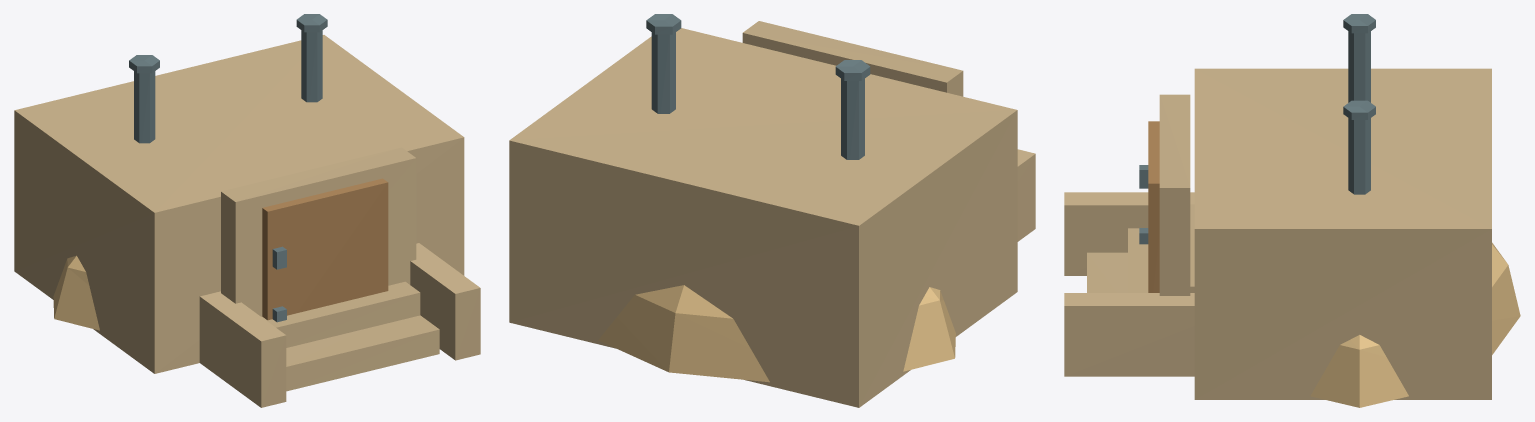
Rendered from Root-Cellar.glb.
3 renders of one model, left to right at view 1: azimuth 30°, elevation 25°; view 2: azimuth 150°, elevation 25°; view 3: azimuth 270°, elevation 25°, orthographic. The views are drawn at different scales.
Parts seen in each view (by area): view 1: wind-pump-static-root-cellar-stone, wind-pump-static-root-cellar-door-timber, wind-pump-static-root-cellar-iron, wind-pump-static-root-cellar-earth; view 2: wind-pump-static-root-cellar-stone, wind-pump-static-root-cellar-earth, wind-pump-static-root-cellar-iron; view 3: wind-pump-static-root-cellar-stone, wind-pump-static-root-cellar-earth, wind-pump-static-root-cellar-iron, wind-pump-static-root-cellar-door-timber.
Boxes of the visible parts, box(x1,y1,x2,y2) form: wind-pump-static-root-cellar-stone: box(14, 35, 480, 407); wind-pump-static-root-cellar-door-timber: box(262, 178, 388, 320); wind-pump-static-root-cellar-iron: box(129, 14, 327, 322); wind-pump-static-root-cellar-earth: box(53, 255, 99, 330); wind-pump-static-root-cellar-stone: box(509, 21, 1035, 407); wind-pump-static-root-cellar-earth: box(598, 285, 955, 382); wind-pump-static-root-cellar-iron: box(646, 14, 870, 159); wind-pump-static-root-cellar-stone: box(1064, 68, 1491, 399); wind-pump-static-root-cellar-earth: box(1310, 242, 1520, 407); wind-pump-static-root-cellar-iron: box(1139, 14, 1375, 244); wind-pump-static-root-cellar-door-timber: box(1148, 121, 1159, 292).
Bounding box in the file's own units: 2.12 × 1.37 × 2.22.
